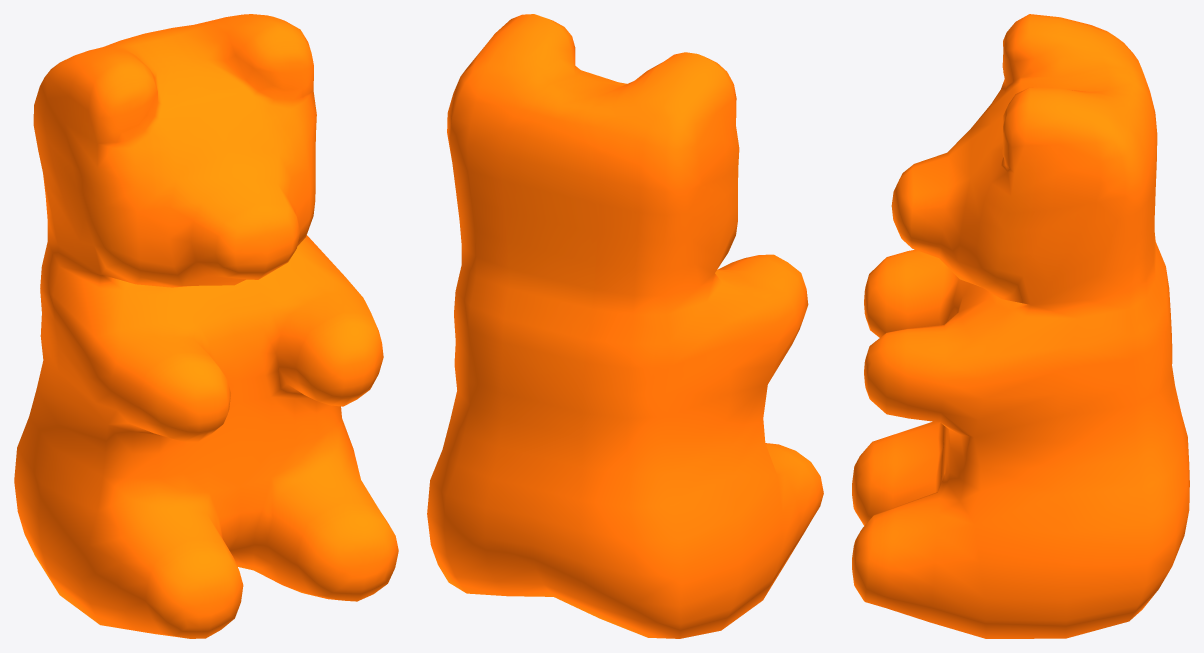
File: GummiBear_03.glb
3 renders of one model, left to right at view 1: azimuth 30°, elevation 25°; view 2: azimuth 150°, elevation 25°; view 3: azimuth 270°, elevation 25°, orthographic. The views are drawn at different scales.
Visible parts, largest first — view 1: GummiBear_03; view 2: GummiBear_03; view 3: GummiBear_03.
Boxes of the visible parts, x1,y1,x2,y2 form: GummiBear_03: [14, 14, 398, 638]; GummiBear_03: [427, 14, 823, 638]; GummiBear_03: [852, 14, 1189, 638].
Size of the model in its own units: 1.92 by 3.54 by 2.03.
Materials: 1 (1 with a texture image).
